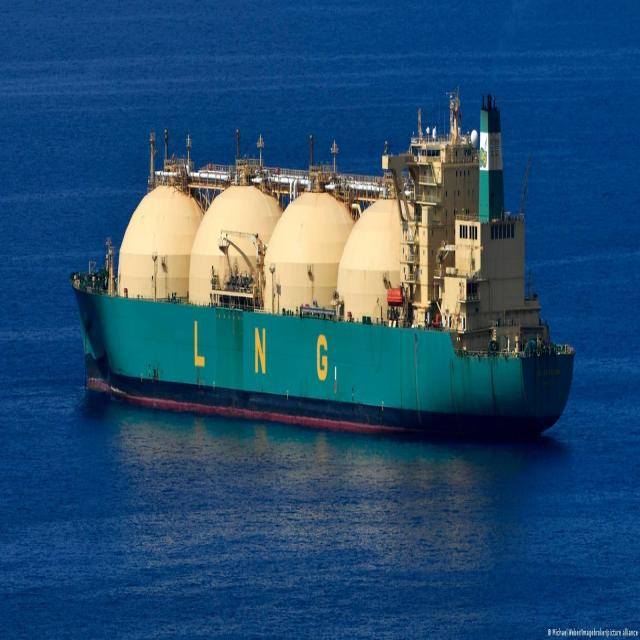boat: (68, 85, 582, 462)
